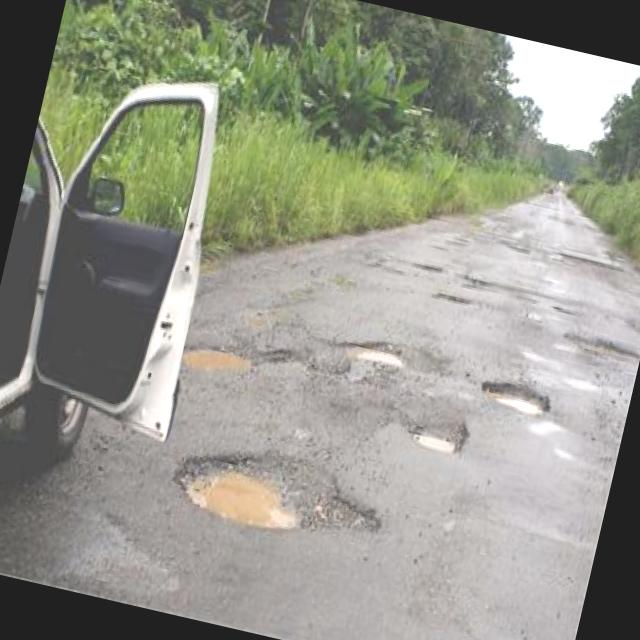Lubang: (175, 450, 380, 531), (483, 383, 550, 416), (411, 415, 469, 452), (565, 333, 640, 361), (346, 341, 403, 371), (182, 349, 251, 372), (432, 291, 472, 302)
